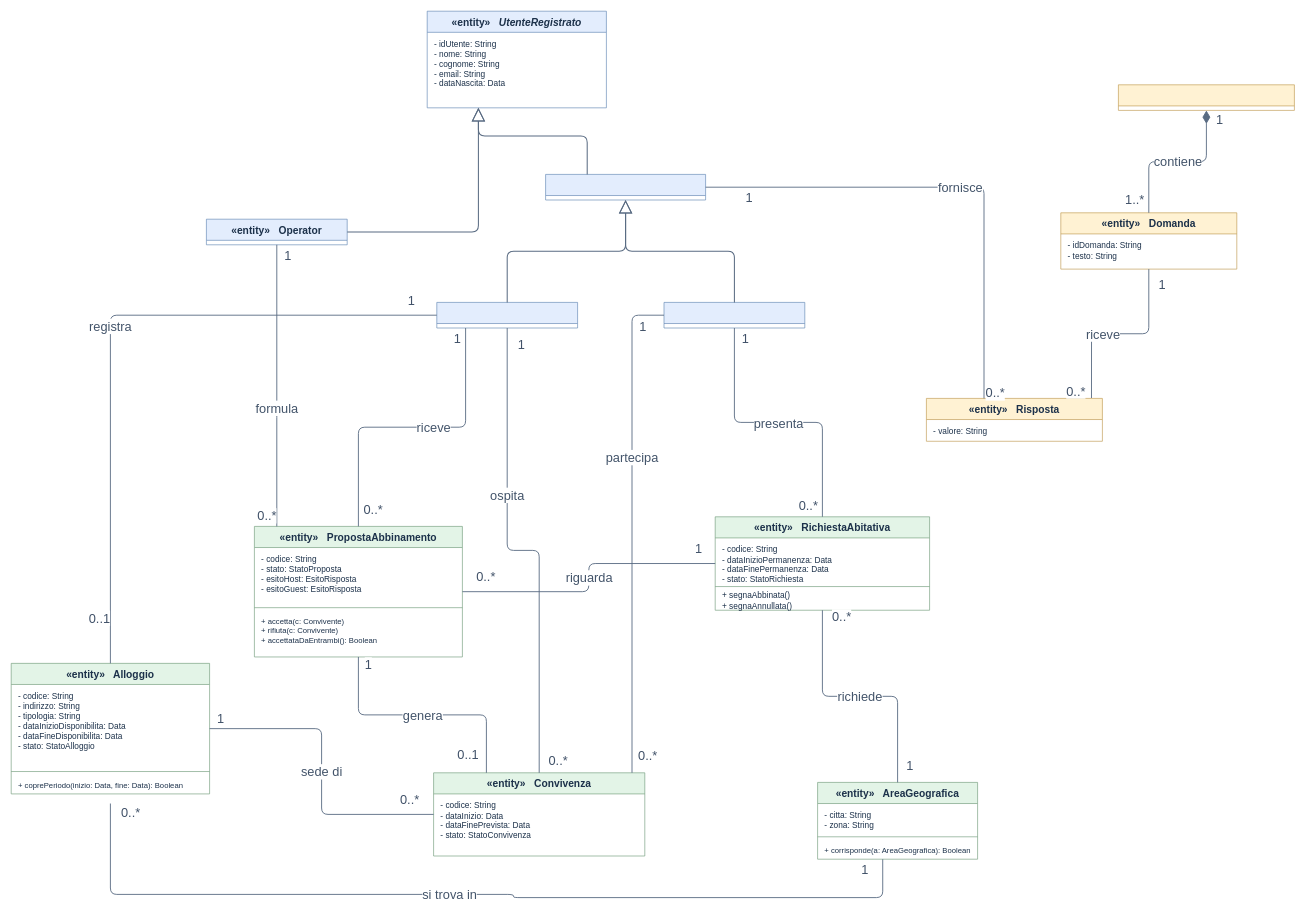
This 1306x913 diagram has some shape labels left out. Each missing label, with the centre of its shape:
"«entity» Convivente" goes at point 625,187.
"«entity» Guest" goes at point 734,315.
"«entity» Host" goes at point 507,315.
"«entity» QuestionarioPreferenze" goes at point 1206,97.
